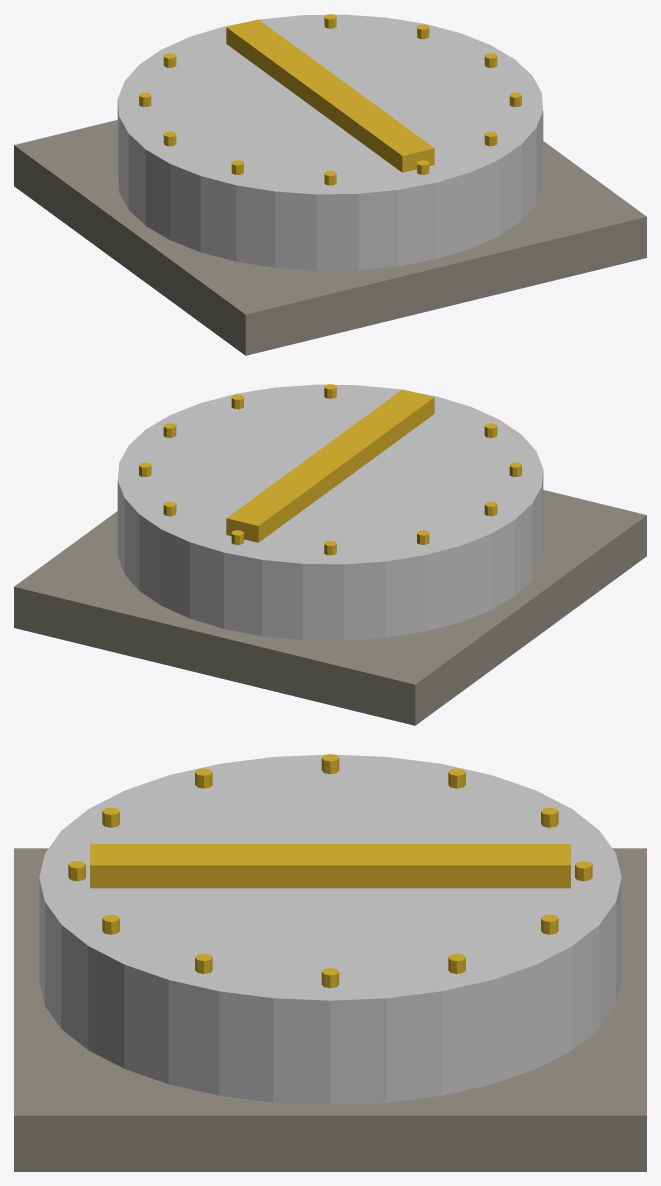
Rendered from silo_hatch.obj.
3 views of the same model, one above another, from view 1: azimuth 30°, elevation 25°; view 2: azimuth 150°, elevation 25°; view 3: azimuth 270°, elevation 25° (orthographic). The views are drawn at different scales.
Parts seen in each view (by area): view 1: silo_hatch; view 2: silo_hatch; view 3: silo_hatch.
Boxes of the visible parts, x1,y1,x2,y2 form: silo_hatch: [14, 14, 646, 355]; silo_hatch: [14, 384, 646, 725]; silo_hatch: [14, 754, 646, 1171].
Bounding box in the file's own units: 1 × 0.32 × 1.
